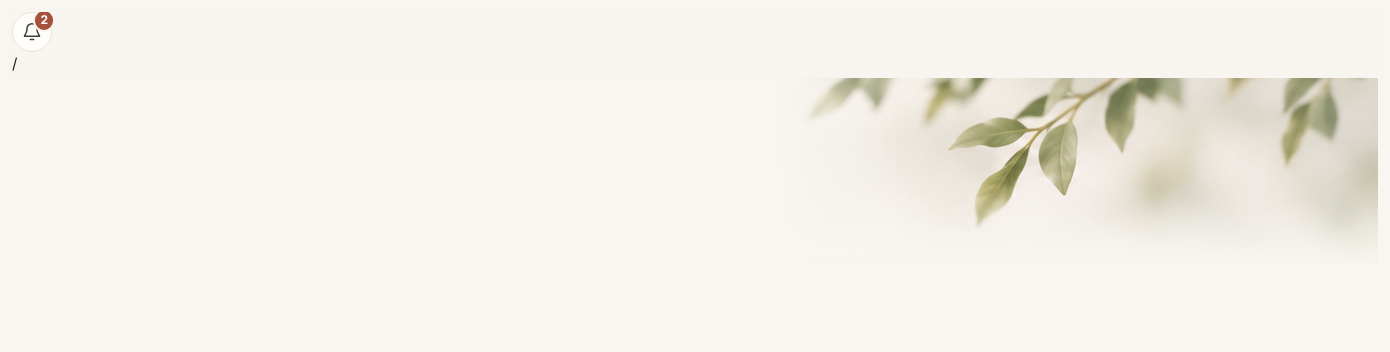
Test: menu acknowledges a visit group when it is selected
This screenshot has width=1390, height=352.
Click the button named "Notifications, 2 unread".
click(32, 32)  # box [12, 12, 52, 52]
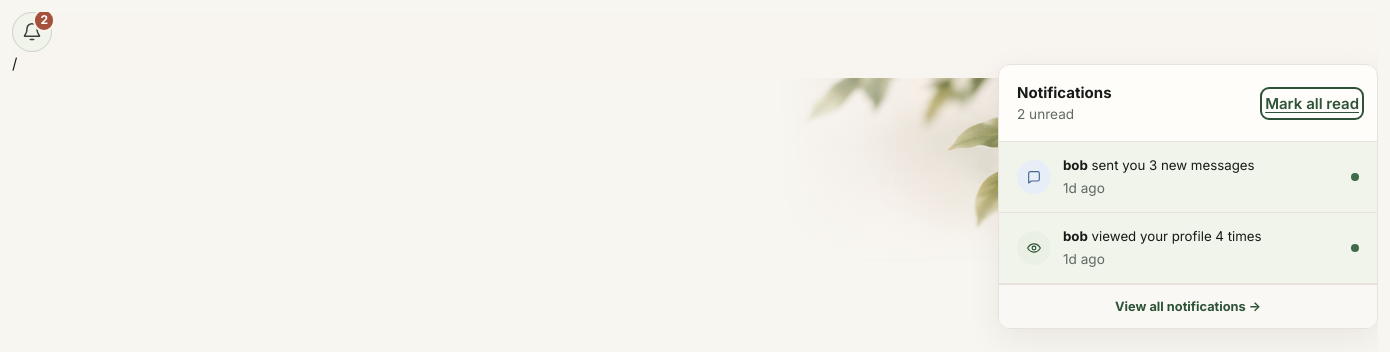
Click the button "bob viewed your profile 4 times 1d ago".
click(1034, 248)  # box [999, 213, 1377, 284]
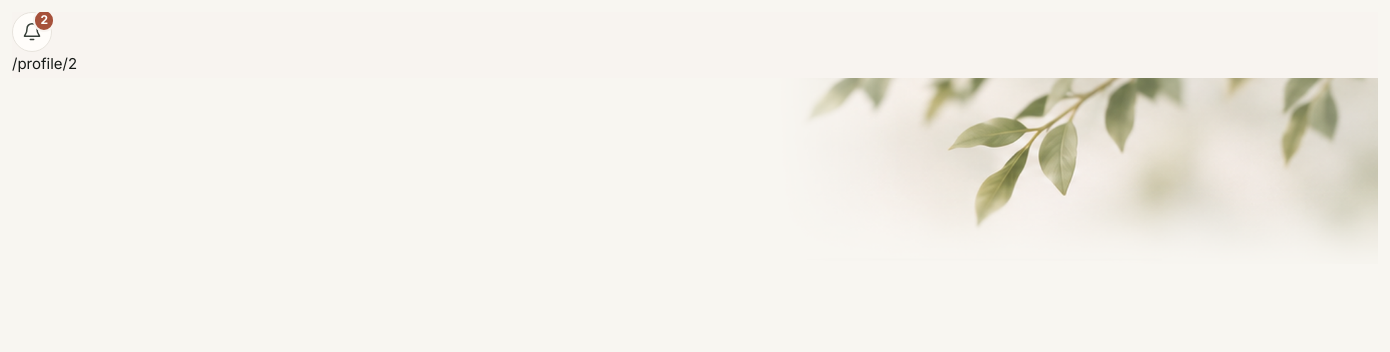
expect the text "/profile/2" is shown: met, box [12, 54, 77, 73]
